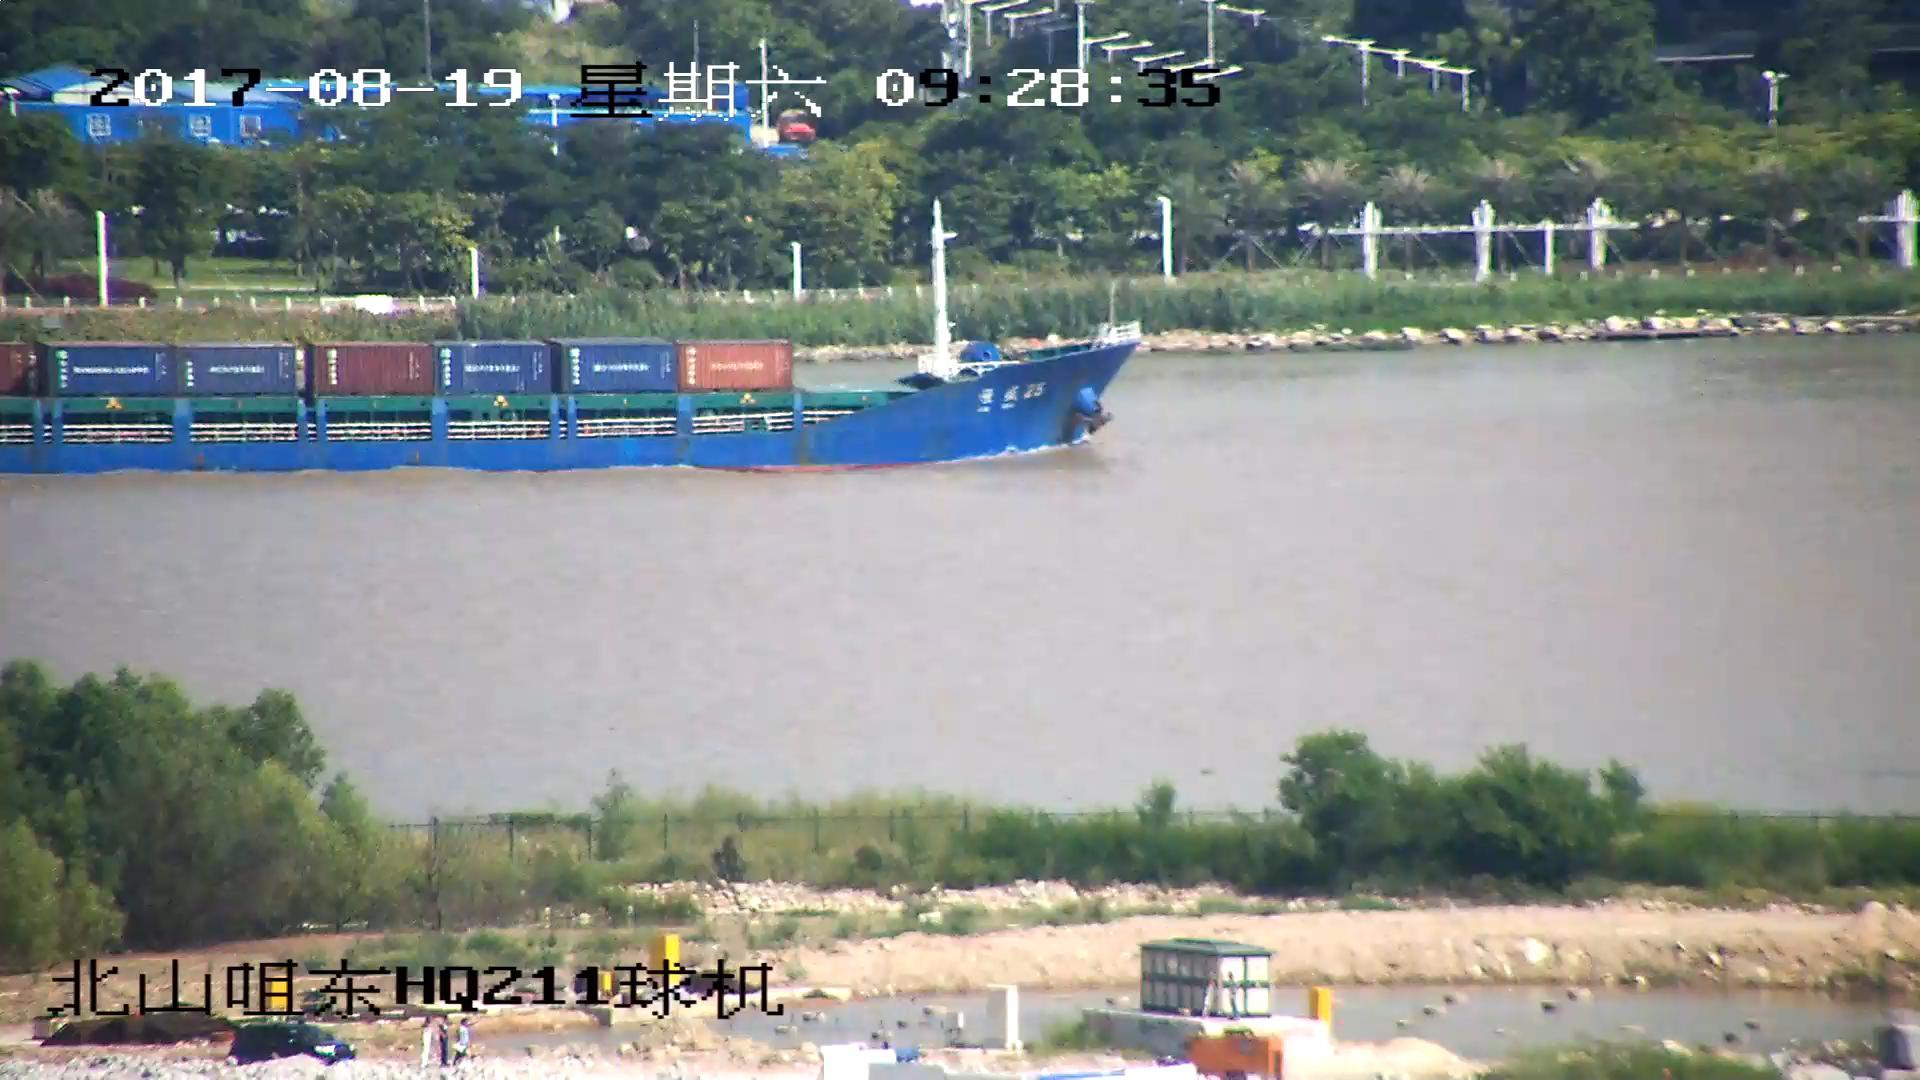Ship: (3, 202, 1145, 467)
